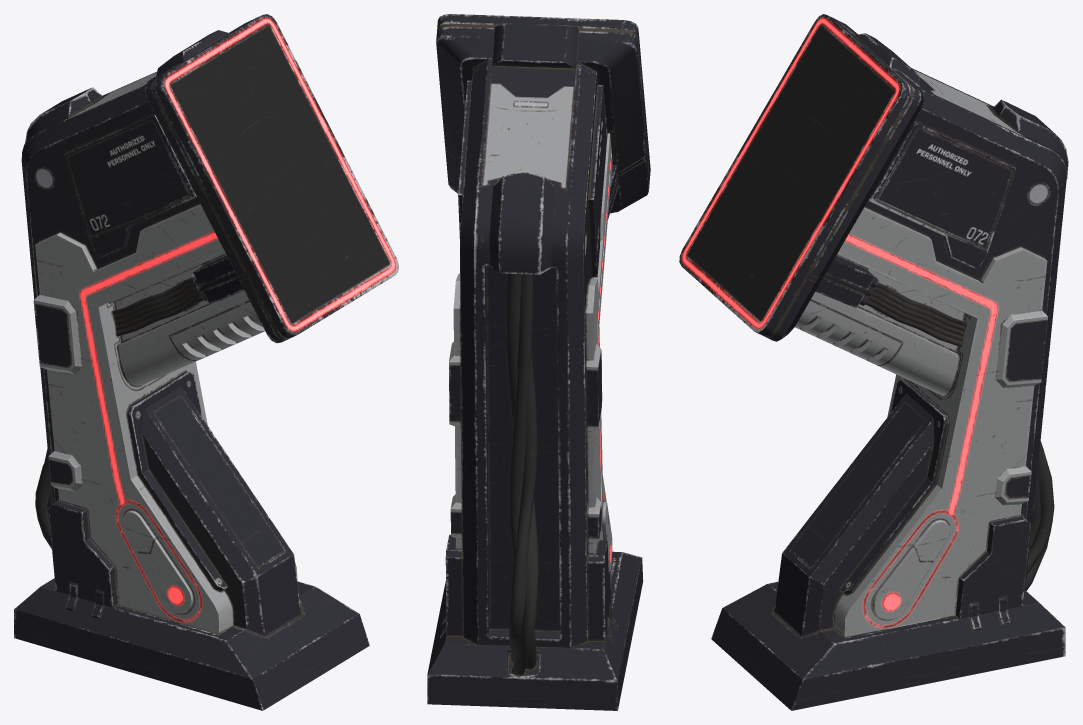
The model's file is sci-fi-terminal.glb.
3 views of the same model, side by side, from view 1: azimuth 30°, elevation 25°; view 2: azimuth 150°, elevation 25°; view 3: azimuth 270°, elevation 25° (orthographic).
Parts seen in each view (by area): view 1: LP1.008_4; view 2: LP1.008_4; view 3: LP1.008_4.
Boxes of the visible parts, bbox=[...] form: LP1.008_4: bbox=[14, 14, 398, 710]; LP1.008_4: bbox=[427, 14, 650, 710]; LP1.008_4: bbox=[679, 14, 1068, 710].
Bounding box in the file's own units: 0.6458 × 1.36 × 0.7938.
1 material, 1 textured.
